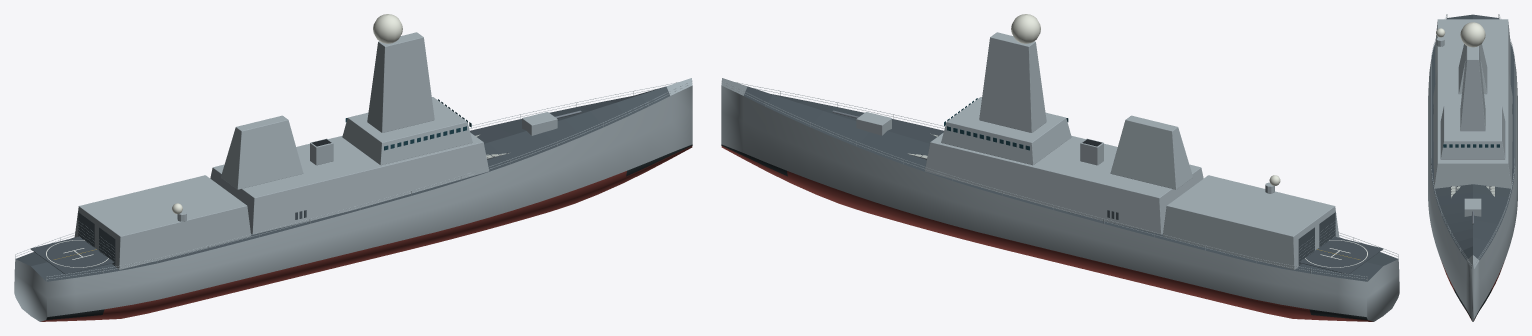
File: rn_ddg_type45.glb
The picture shows the model from 3 angles, left to right: view 1: azimuth 30°, elevation 25°; view 2: azimuth 150°, elevation 25°; view 3: azimuth 270°, elevation 25°; orthographic projection. The views are drawn at different scales.
Visible parts, largest first — view 1: rn_ddg_type45; view 2: rn_ddg_type45; view 3: rn_ddg_type45.
Boxes of the visible parts, bbox=[...] form: rn_ddg_type45: bbox=[14, 14, 692, 321]; rn_ddg_type45: bbox=[721, 14, 1399, 321]; rn_ddg_type45: bbox=[1428, 14, 1517, 321].
Bounding box in the file's own units: 10 × 3.29 × 1.4.
